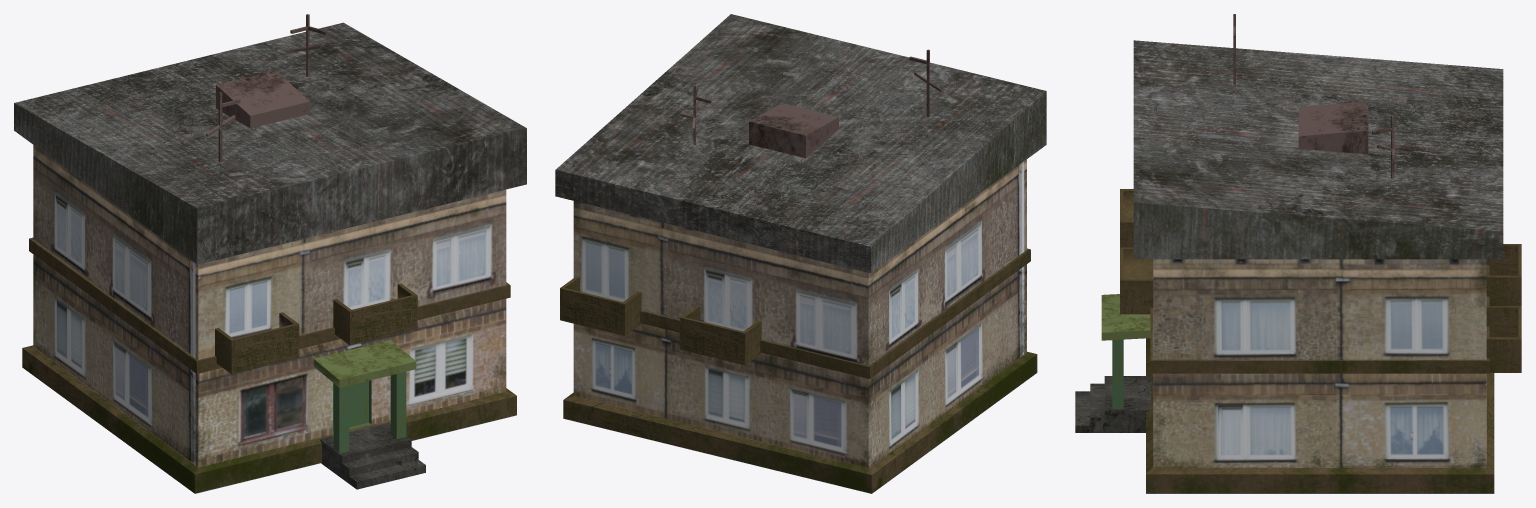
File: house2_default.fbx
The picture shows the model from 3 angles, left to right: view 1: azimuth 30°, elevation 25°; view 2: azimuth 150°, elevation 25°; view 3: azimuth 270°, elevation 25°; orthographic projection. The views are drawn at different scales.
Parts seen in each view (by area): view 1: home; view 2: home; view 3: home.
Part boxes in pixels (x1,y1,x2,y2): home: [14, 14, 526, 493]; home: [555, 14, 1046, 493]; home: [1075, 14, 1521, 493].
Bounding box in the file's own units: 809 × 828 × 940.
1 material, 1 textured.
